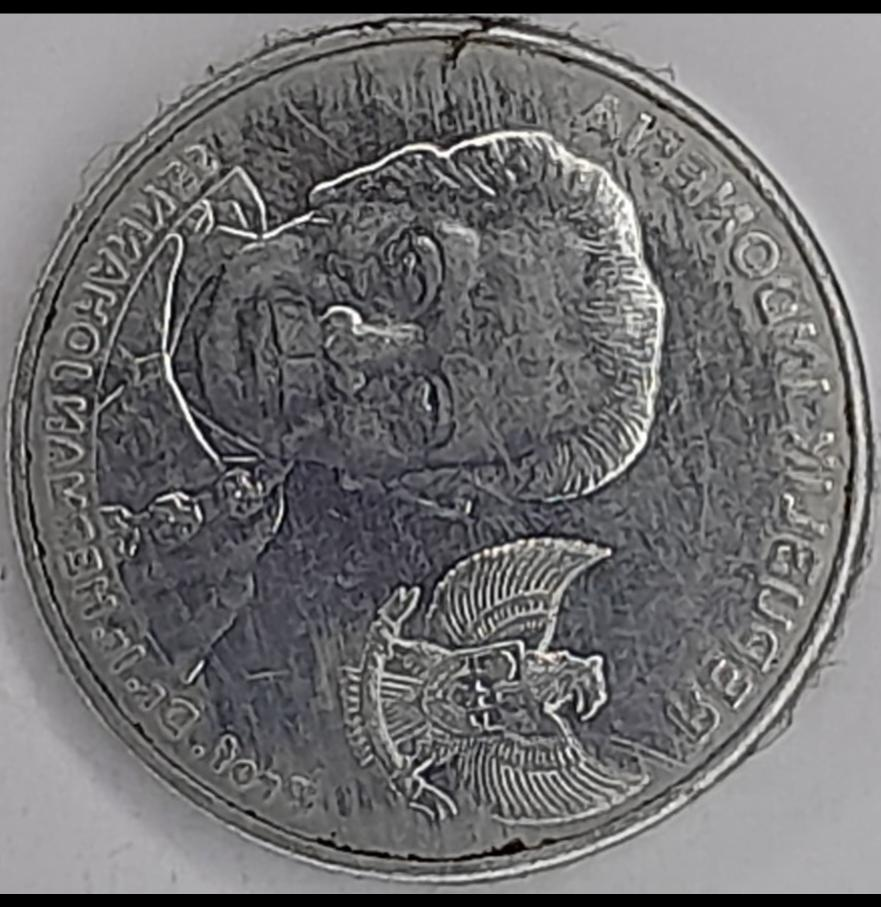coin_100_e2016: (0, 12, 880, 886)
